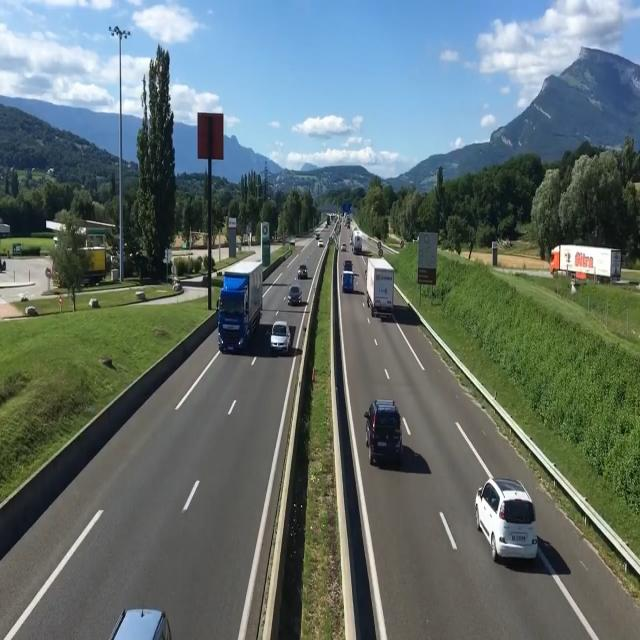car: (477, 478, 542, 568), (90, 599, 178, 640), (367, 394, 408, 471), (366, 258, 397, 326), (269, 315, 292, 359), (286, 282, 305, 308), (341, 270, 355, 294), (296, 262, 310, 280)
truck: (219, 266, 261, 355), (549, 242, 621, 281)
